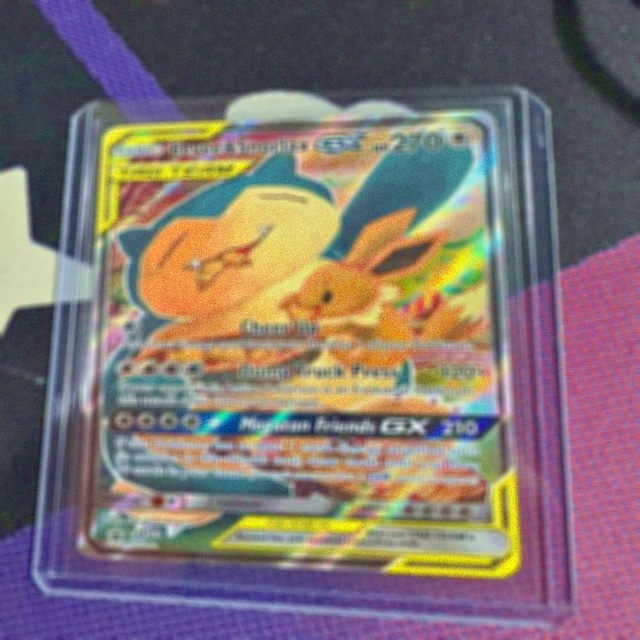card: (77, 110, 523, 578)
